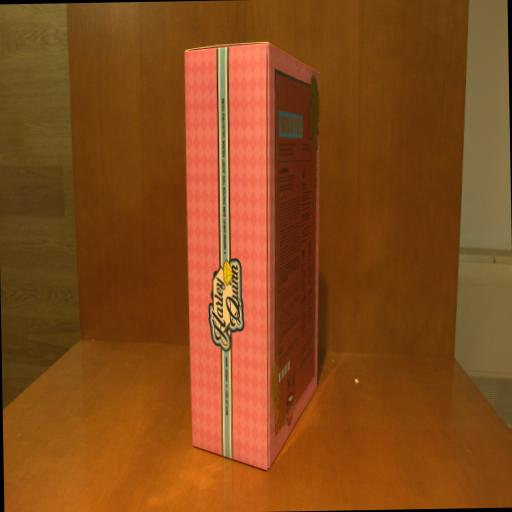Harley: (184, 40, 327, 471)
